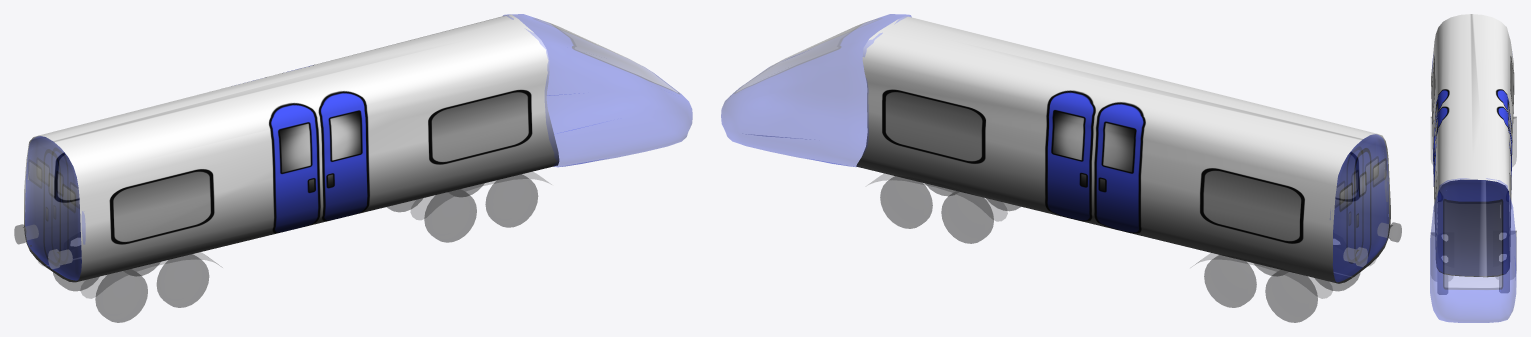
Rendered from Train.glb.
The picture shows the model from 3 angles, left to right: view 1: azimuth 30°, elevation 25°; view 2: azimuth 150°, elevation 25°; view 3: azimuth 270°, elevation 25°; orthographic projection. The views are drawn at different scales.
Visible parts, largest first — view 1: Train.obj; view 2: Train.obj; view 3: Train.obj.
Part boxes in pixels (bbox=[...]): Train.obj: bbox=[14, 14, 692, 322]; Train.obj: bbox=[721, 14, 1401, 322]; Train.obj: bbox=[1430, 14, 1516, 322].
Bounding box in the file's own units: 5.37 × 1.4 × 0.8745.
7 materials, 4 textured.
